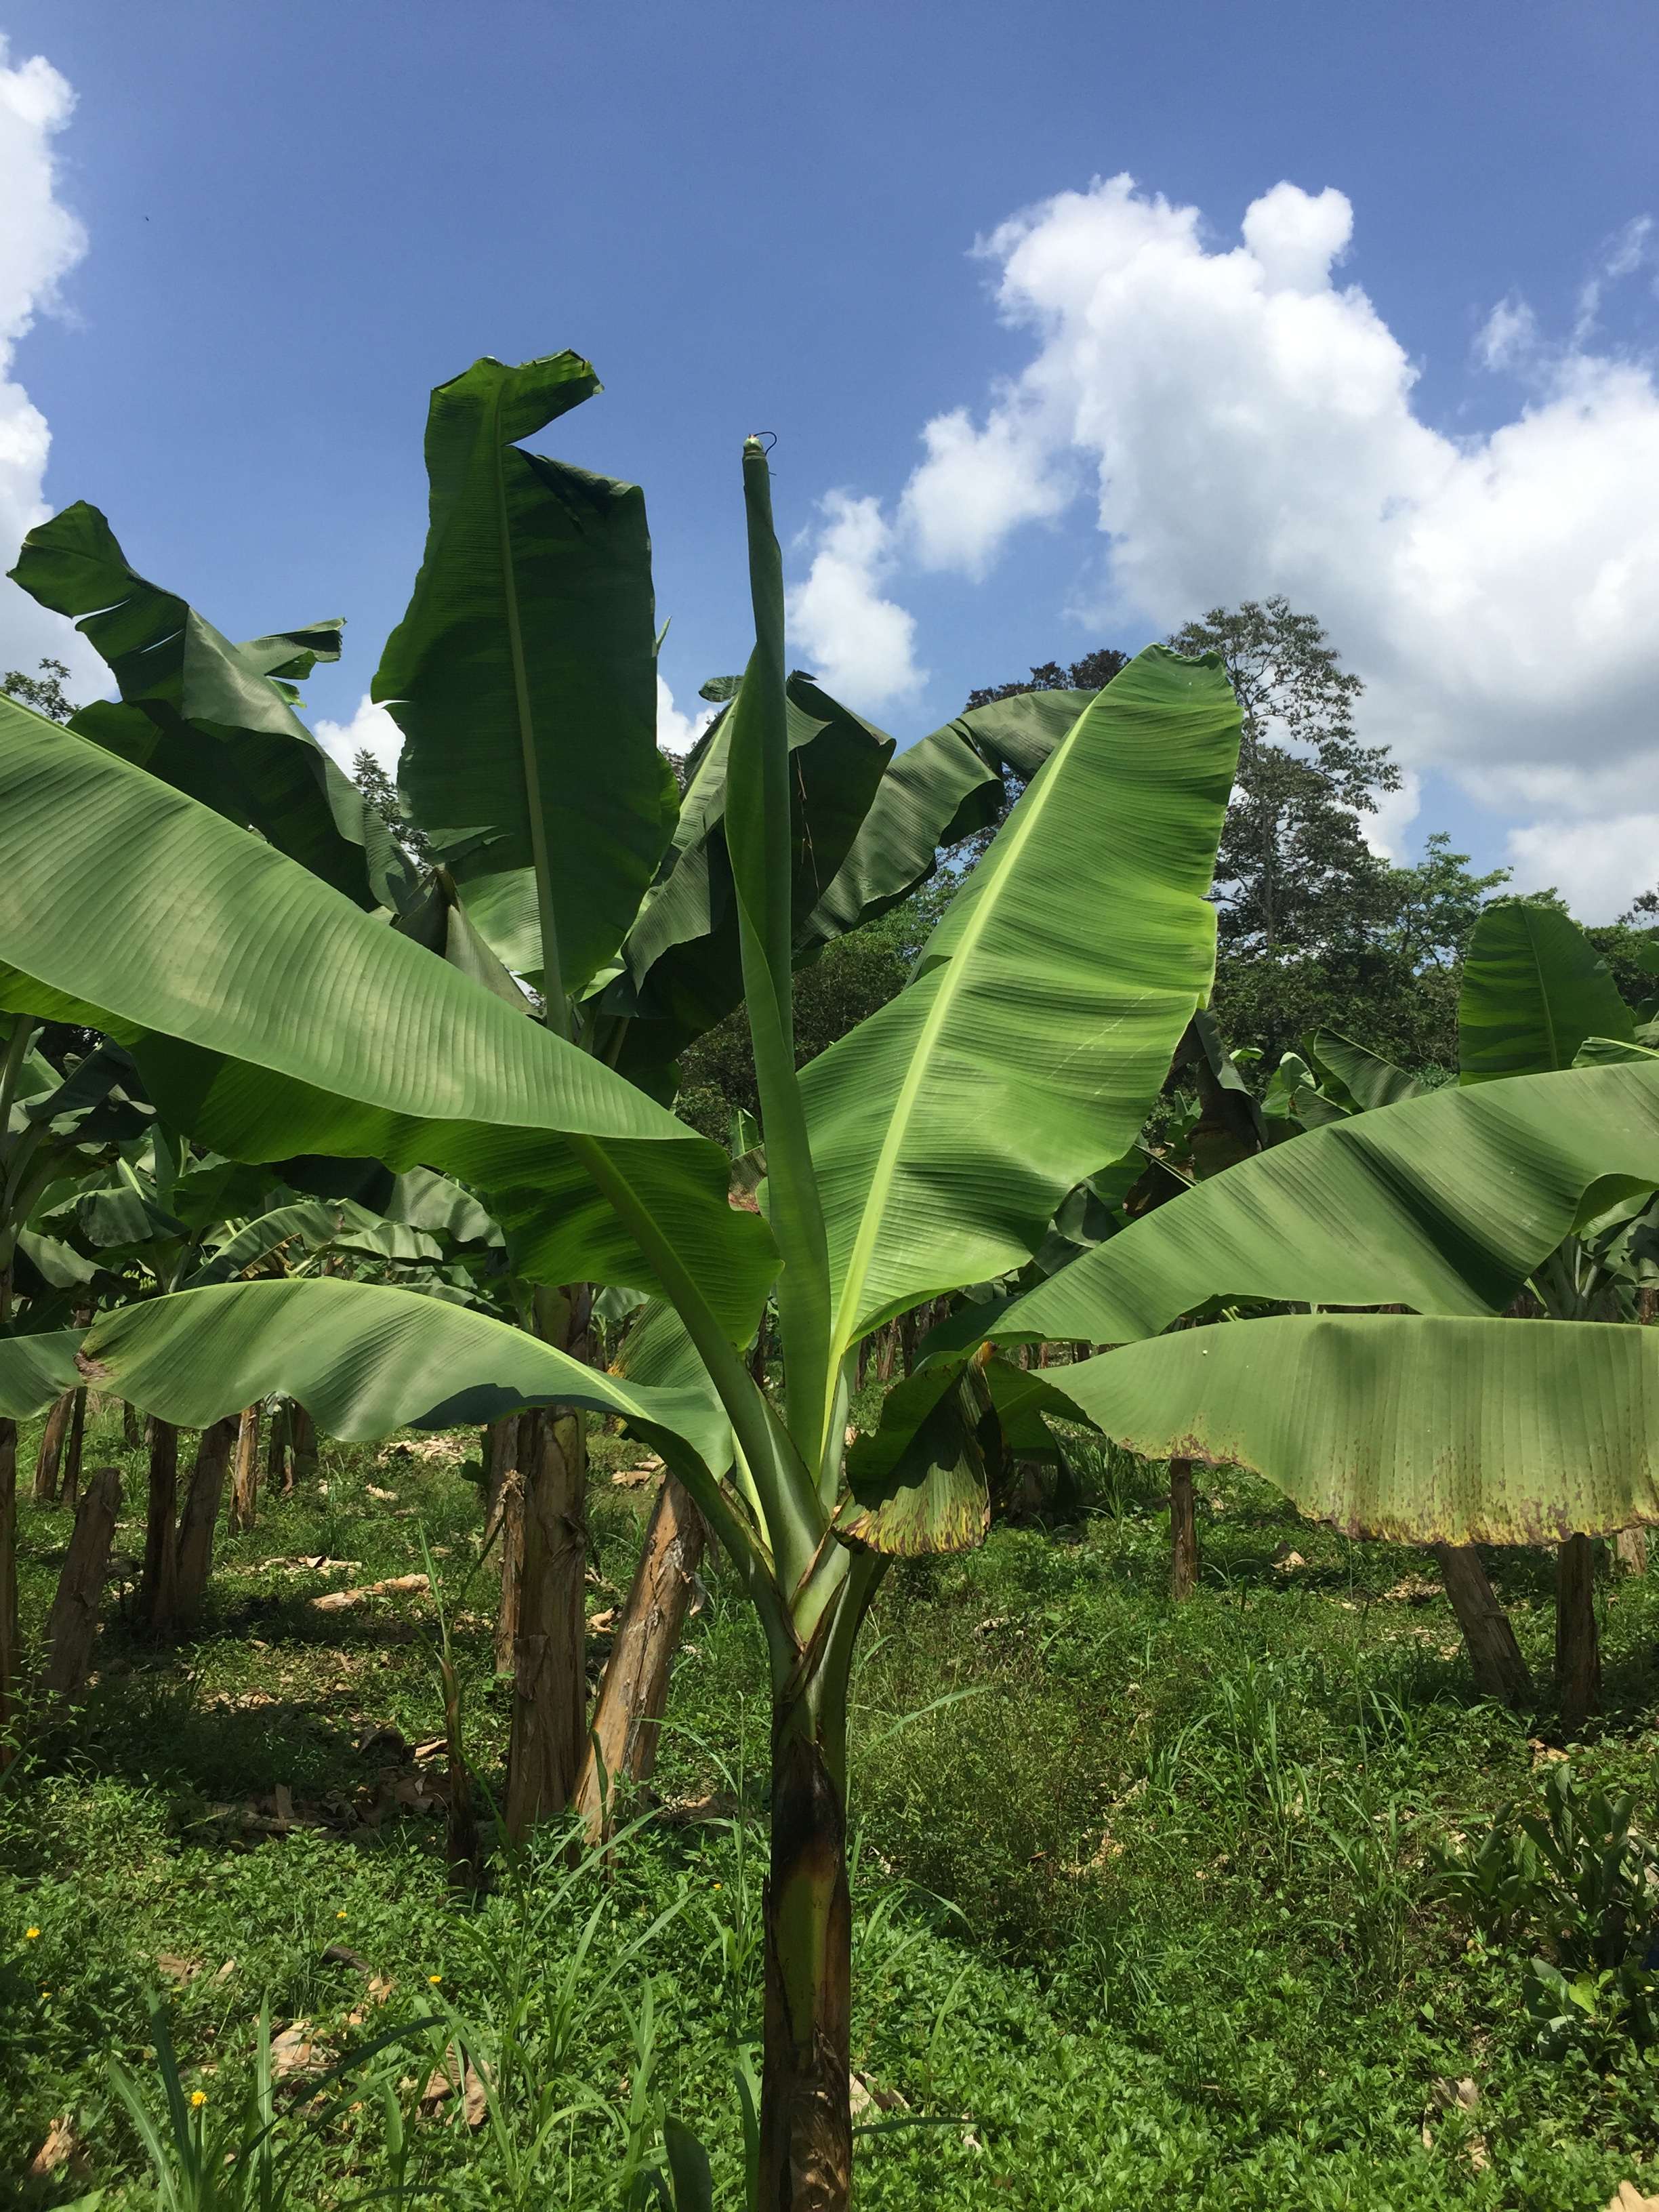candleleafs: (723, 430, 833, 1480)
